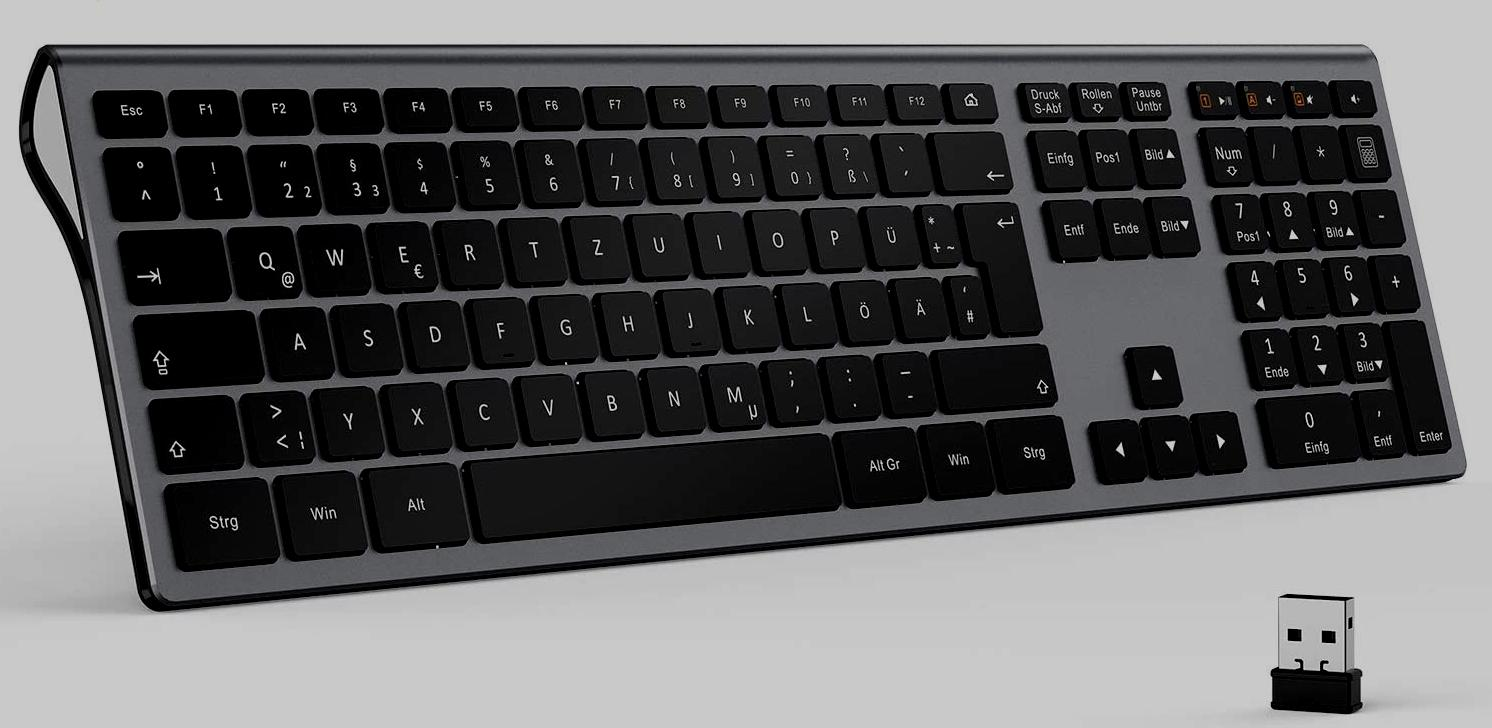0: (761, 128, 820, 196)
1: (179, 139, 249, 213)
2: (250, 137, 318, 211)
3: (318, 136, 386, 209)
4: (387, 134, 452, 206)
5: (453, 134, 518, 205)
6: (518, 133, 582, 203)
7: (581, 131, 642, 201)
8: (643, 130, 703, 199)
9: (703, 129, 761, 197)
a: (263, 300, 332, 375)
accent: (874, 125, 929, 190)
ae: (889, 270, 945, 337)
alt-left: (360, 456, 469, 546)
altgr-right: (833, 421, 924, 502)
b: (578, 363, 642, 435)
c: (449, 372, 516, 445)
caret: (104, 140, 177, 215)
comma: (761, 351, 820, 421)
d: (400, 294, 467, 368)
del: (929, 125, 1008, 189)
e: (369, 214, 435, 288)
enter: (955, 193, 1039, 332)
f: (468, 291, 531, 363)
g: (531, 288, 596, 359)
h: (595, 285, 657, 354)
hash: (943, 268, 987, 334)
i: (688, 204, 746, 272)
j: (657, 281, 717, 351)
k: (716, 278, 777, 348)
keyboard: (53, 28, 1468, 618)
l: (776, 275, 833, 344)
less: (241, 383, 312, 461)
m: (701, 355, 761, 426)
minus: (875, 345, 933, 412)
n: (640, 359, 703, 430)
o: (747, 203, 805, 270)
oe: (833, 274, 891, 341)
p: (805, 200, 862, 267)
plus: (914, 197, 957, 263)
point: (819, 348, 877, 415)
q: (228, 219, 299, 295)
r: (437, 213, 501, 285)
s: (332, 297, 400, 371)
shift-left: (148, 389, 241, 469)
shift-lock: (133, 304, 263, 383)
shift-right: (931, 337, 1054, 407)
space: (462, 430, 843, 535)
ss: (818, 127, 875, 193)
strg-left: (161, 472, 279, 567)
strg-right: (987, 409, 1073, 488)
t: (502, 210, 564, 281)
tab: (119, 222, 228, 300)
u: (627, 206, 688, 276)
ue: (861, 199, 917, 265)
v: (515, 367, 580, 439)
w: (299, 217, 367, 291)
x: (383, 376, 449, 449)
y: (313, 380, 382, 456)
z: (565, 208, 627, 278)
